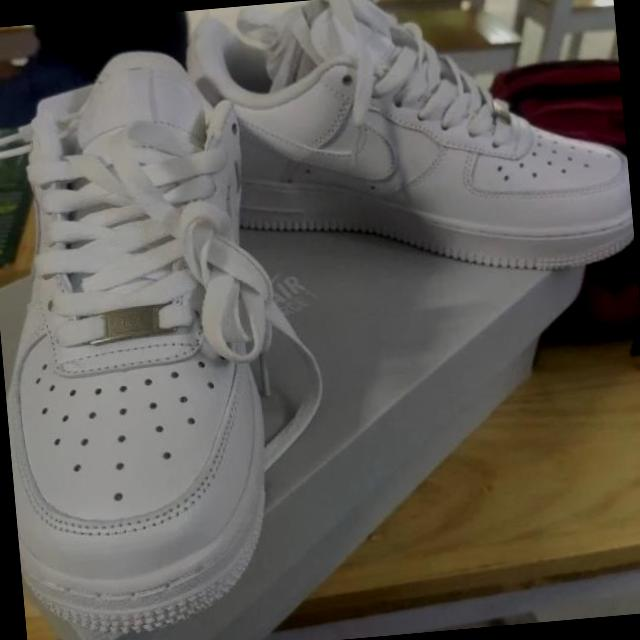nike_original_airforce: (0, 37, 283, 640), (172, 0, 636, 303)
